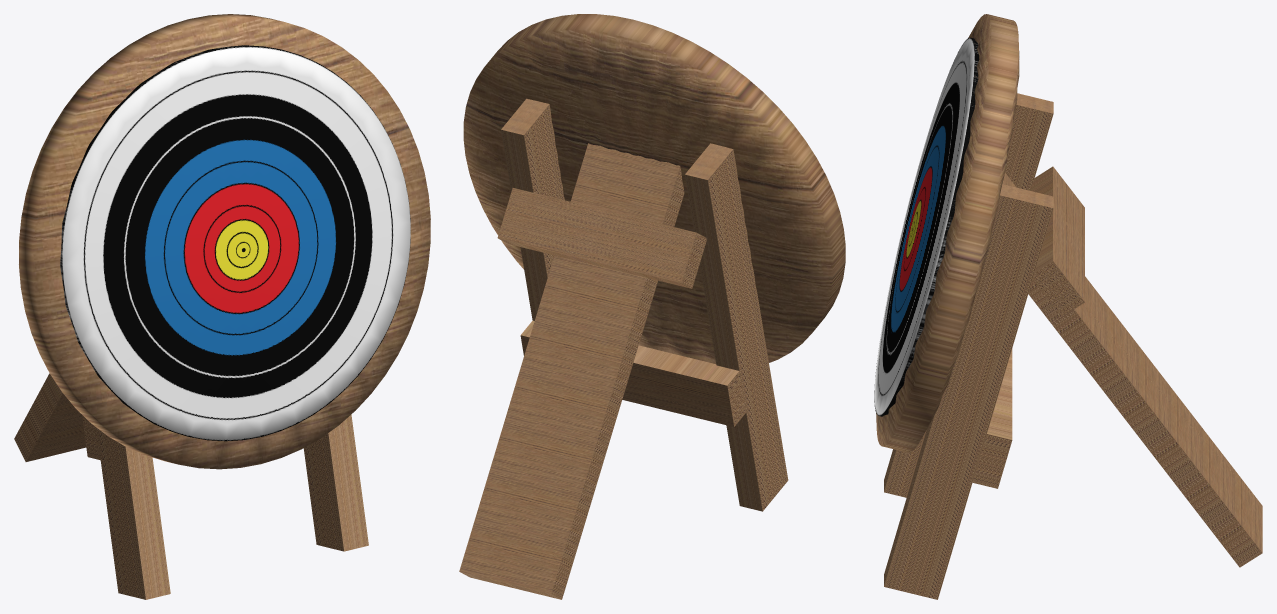
3 renders of one model, left to right at view 1: azimuth 30°, elevation 25°; view 2: azimuth 150°, elevation 25°; view 3: azimuth 270°, elevation 25°, orthographic. The views are drawn at different scales.
Parts seen in each view (by area): view 1: Cylinder002, Cylinder001, Box004, Box003, Box008; view 2: Cylinder001, Box008, Box004, Box009, Box005, Box003; view 3: Box003, Cylinder001, Box008, Cylinder002, Box009, Box004, Box005.
Part boxes in pixels (x1=…): Cylinder002: x1=60, y1=45, x2=410, y2=441; Cylinder001: x1=19, y1=14, x2=430, y2=469; Box004: x1=96, y1=428, x2=170, y2=599; Box003: x1=303, y1=414, x2=368, y2=551; Box008: x1=14, y1=373, x2=86, y2=461; Cylinder001: x1=463, y1=14, x2=845, y2=363; Box008: x1=459, y1=143, x2=684, y2=599; Box004: x1=685, y1=143, x2=788, y2=511; Box009: x1=497, y1=188, x2=706, y2=288; Box005: x1=520, y1=320, x2=746, y2=426; Box003: x1=501, y1=98, x2=564, y2=320; Box003: x1=884, y1=184, x2=1053, y2=599; Cylinder001: x1=876, y1=14, x2=1019, y2=452; Box008: x1=1002, y1=173, x2=1262, y2=567; Cylinder002: x1=874, y1=37, x2=979, y2=416; Box009: x1=1030, y1=166, x2=1084, y2=316; Box004: x1=884, y1=93, x2=1053, y2=497; Box005: x1=971, y1=349, x2=1012, y2=488.
Bounding box in the file's own units: 79.56 × 101 × 69.46.
Materials: 2 (2 with a texture image).
